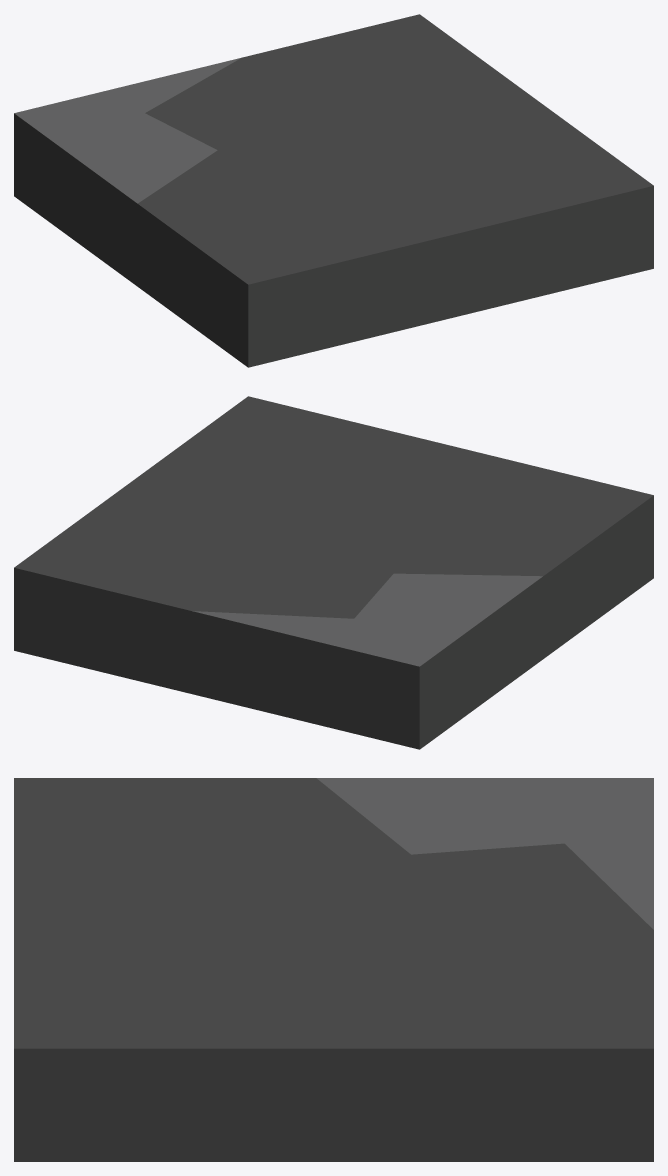
The model's file is Ground_3_5.glb.
The picture shows the model from 3 angles, top to bottom: view 1: azimuth 30°, elevation 25°; view 2: azimuth 150°, elevation 25°; view 3: azimuth 270°, elevation 25°; orthographic projection. The views are drawn at different scales.
Parts seen in each view (by area): view 1: Ground_3_5; view 2: Ground_3_5; view 3: Ground_3_5.
Boxes of the visible parts, bbox=[...] form: Ground_3_5: bbox=[14, 14, 653, 367]; Ground_3_5: bbox=[14, 396, 653, 749]; Ground_3_5: bbox=[14, 778, 653, 1161].
Size of the model in its own units: 2 by 0.3912 by 2.
1 material, 1 textured.
